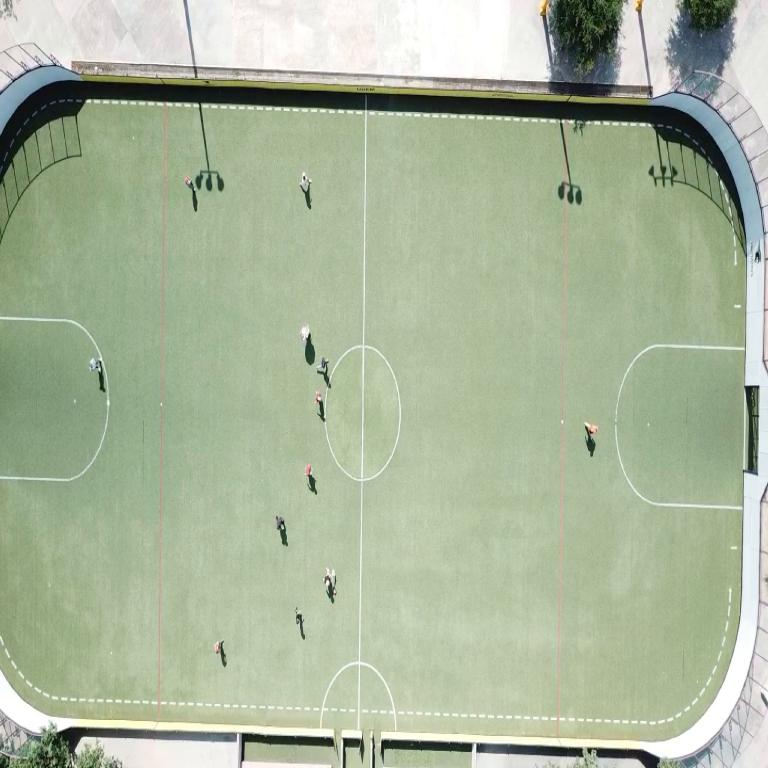AC: (614, 345, 744, 507), (0, 373, 109, 481), (0, 316, 100, 353)
B: (333, 588, 337, 595)
MC: (358, 482, 364, 726), (363, 96, 367, 343), (361, 318, 364, 475), (361, 407, 364, 471), (364, 112, 367, 153), (358, 624, 361, 663), (361, 349, 364, 386), (361, 386, 364, 407)
P: (299, 173, 311, 191), (323, 567, 331, 588), (317, 356, 327, 372), (89, 358, 101, 371), (585, 422, 598, 434), (301, 325, 310, 342), (295, 607, 302, 627), (276, 516, 284, 529), (185, 177, 193, 190), (215, 641, 222, 653), (305, 464, 311, 477), (316, 391, 320, 402)
